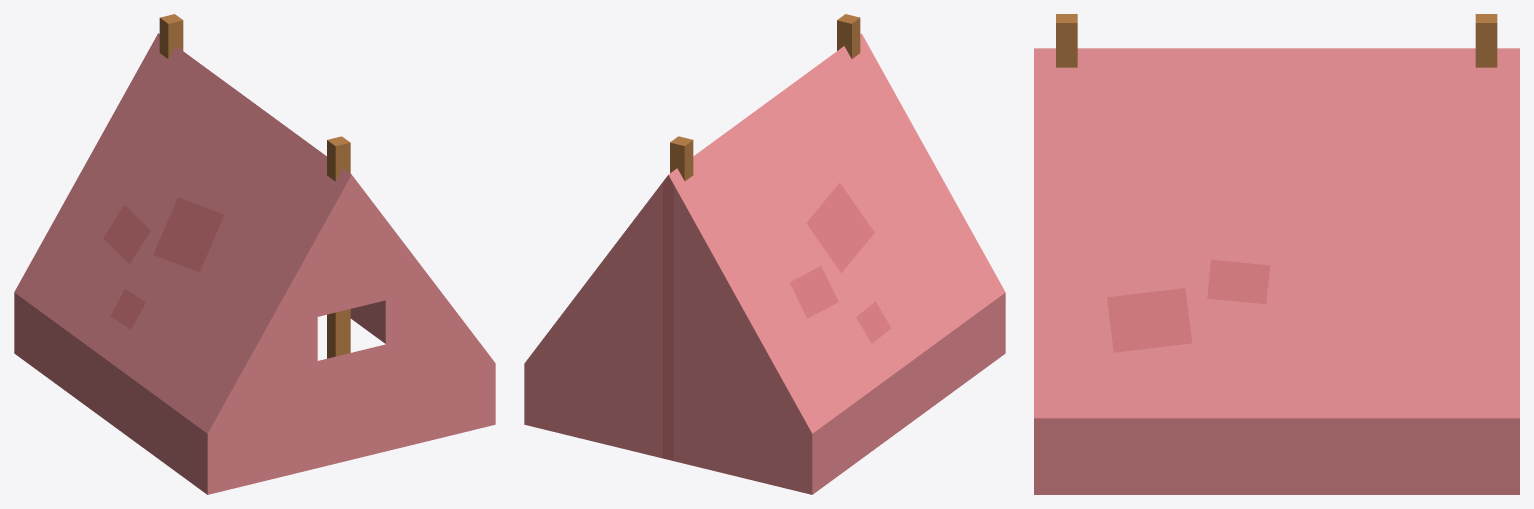
Rendered from tent_smallClosed.glb.
3 renders of one model, left to right at view 1: azimuth 30°, elevation 25°; view 2: azimuth 150°, elevation 25°; view 3: azimuth 270°, elevation 25°, orthographic. The views are drawn at different scales.
Visible parts, largest first — view 1: tent_smallClosed; view 2: tent_smallClosed; view 3: tent_smallClosed.
Boxes of the visible parts, x1=… form: tent_smallClosed: x1=14, y1=14, x2=495, y2=494; tent_smallClosed: x1=524, y1=14, x2=1005, y2=494; tent_smallClosed: x1=1034, y1=14, x2=1519, y2=494.
Size of the model in its own units: 0.5476 by 0.5611 by 0.6364.
